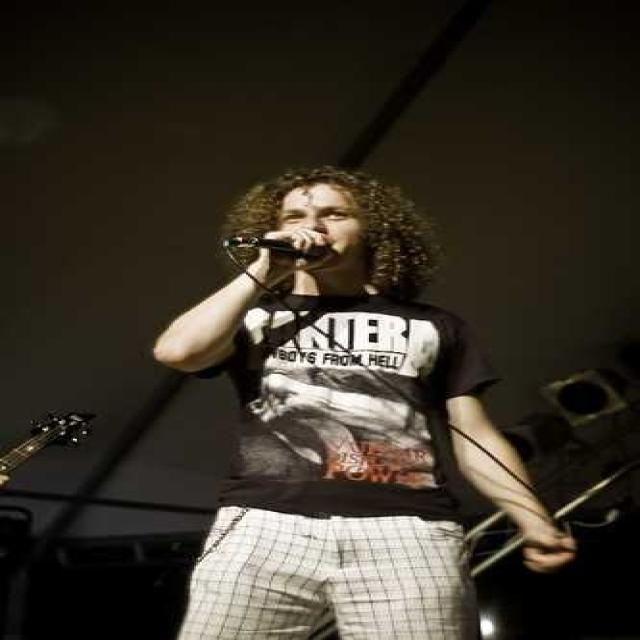microphone: (223, 233, 344, 264)
